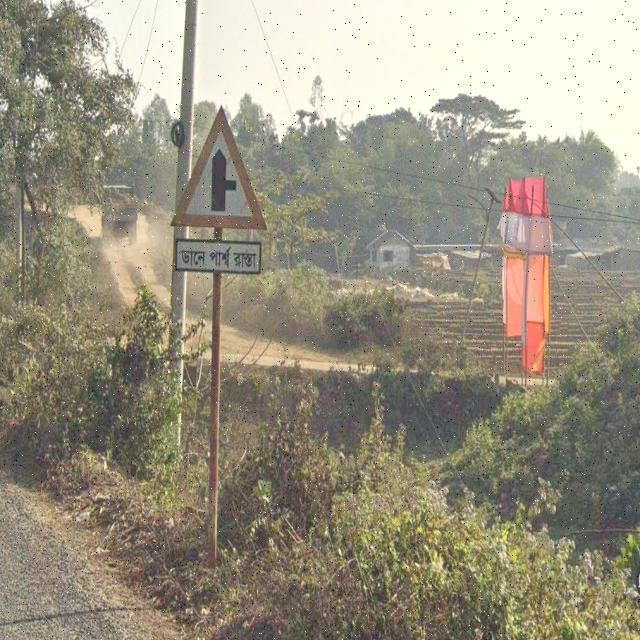Side-road-right: (171, 103, 268, 278)
